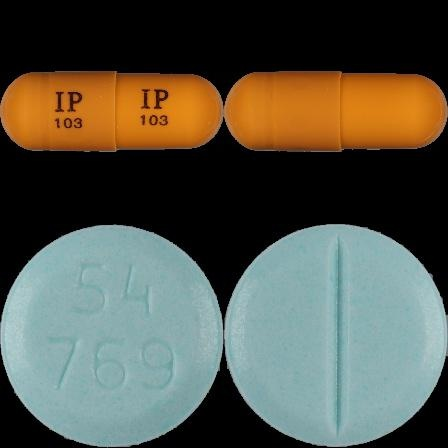54868-5901: (0, 0, 224, 224)
